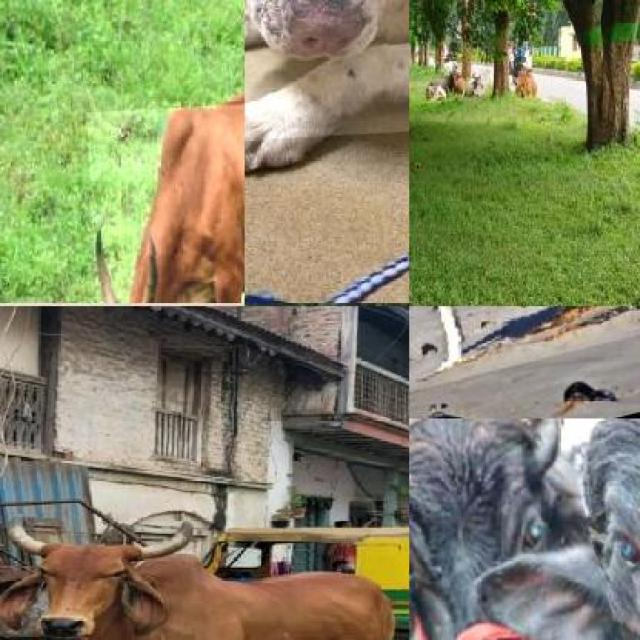buffalo: (409, 418, 640, 640), (537, 418, 640, 640)
cow: (8, 529, 390, 640), (84, 95, 244, 303)
dog: (409, 306, 640, 414), (245, 0, 409, 145)
